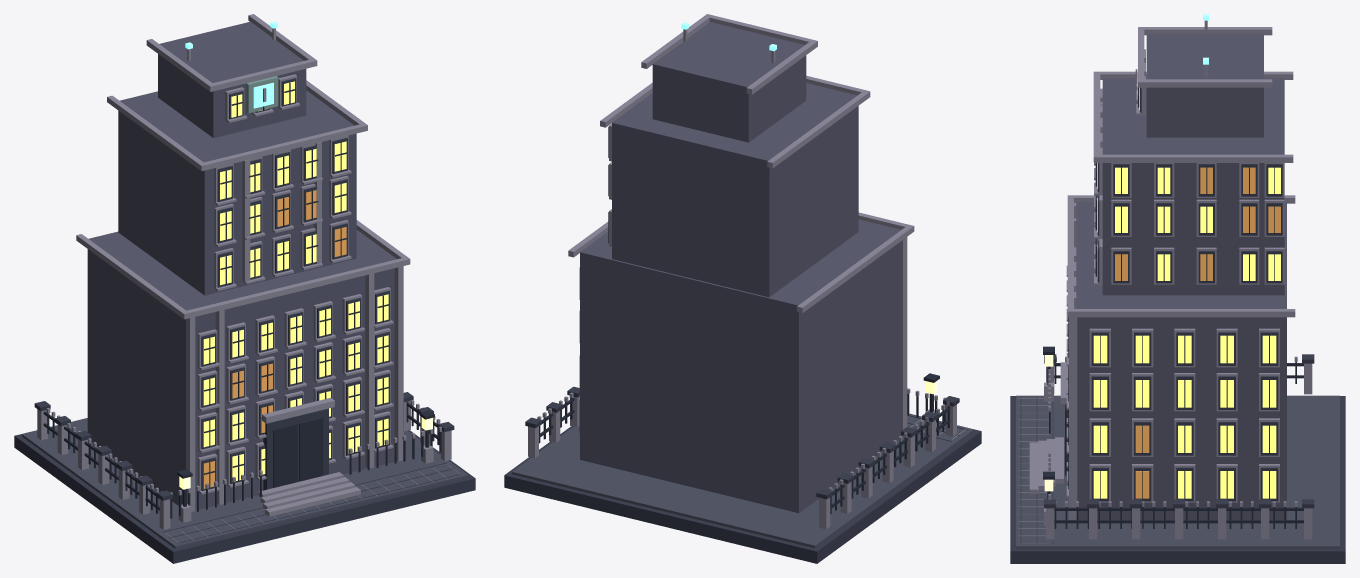
File: account_building_02.glb
3 views of the same model, side by side, from view 1: azimuth 30°, elevation 25°; view 2: azimuth 150°, elevation 25°; view 3: azimuth 270°, elevation 25° (orthographic). The views are drawn at different scales.
Visible parts, largest first — view 1: SM_Account_Building_02; view 2: SM_Account_Building_02; view 3: SM_Account_Building_02.
Part boxes in pixels (x1,y1,x2,y2): SM_Account_Building_02: (14, 14, 475, 563); SM_Account_Building_02: (504, 14, 981, 563); SM_Account_Building_02: (1010, 14, 1345, 563).
Bounding box in the file's own units: 10.1 × 13.6 × 9.2.
